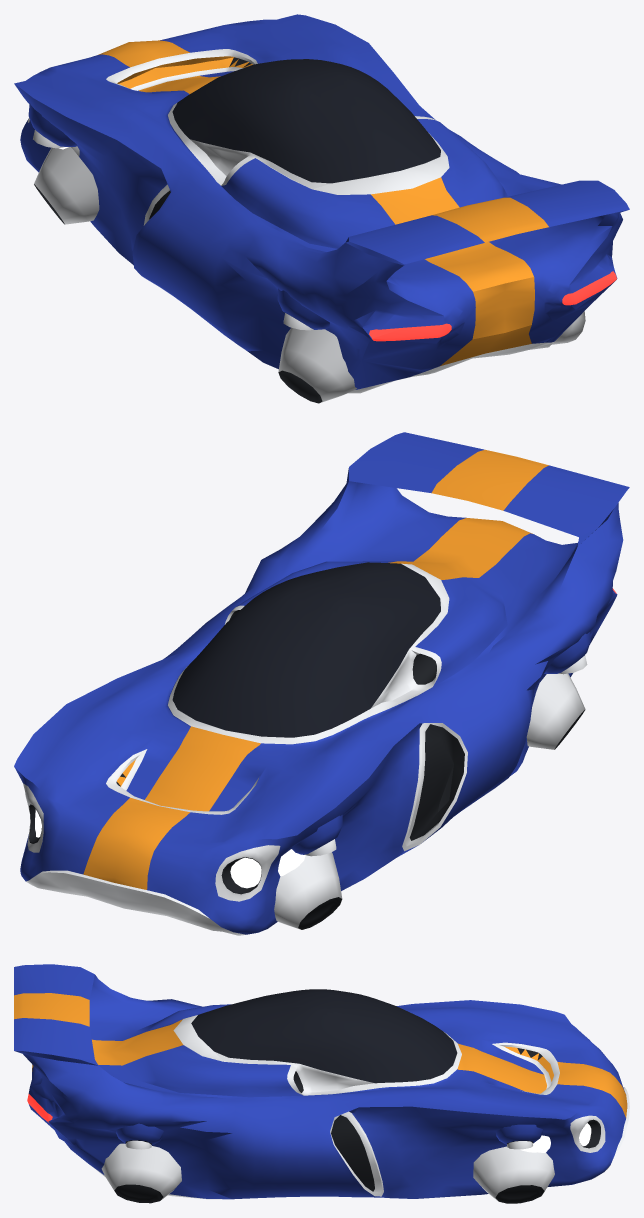
The model's file is c1-aarm.glb.
The picture shows the model from 3 angles, top to bottom: view 1: azimuth 30°, elevation 25°; view 2: azimuth 150°, elevation 25°; view 3: azimuth 270°, elevation 25°; orthographic projection. The views are drawn at different scales.
Visible parts, largest first — view 1: Body.001, Canopy, Sockets; view 2: Body.001, Canopy, Sockets; view 3: Body.001, Canopy, Sockets.
Boxes of the visible parts, x1,y1,x2,y2 form: Body.001: (14,14,629,393); Canopy: (172,59,440,183); Sockets: (28,103,585,403); Body.001: (14,432,629,935); Canopy: (172,562,440,737); Sockets: (274,632,590,929); Body.001: (14,964,629,1199); Canopy: (191,989,457,1083); Sockets: (101,1123,554,1203).
Bounding box in the file's own units: 1.89 × 1.13 × 4.01.
